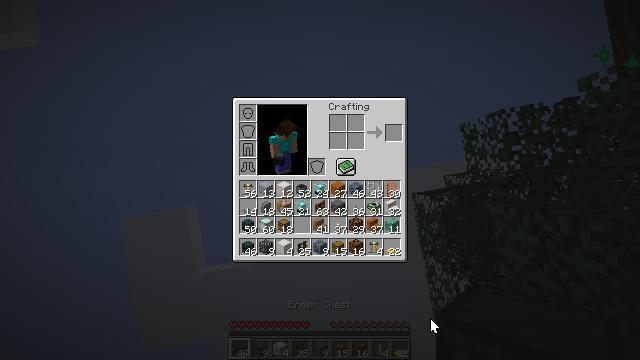cursor: (430, 318, 440, 334)
